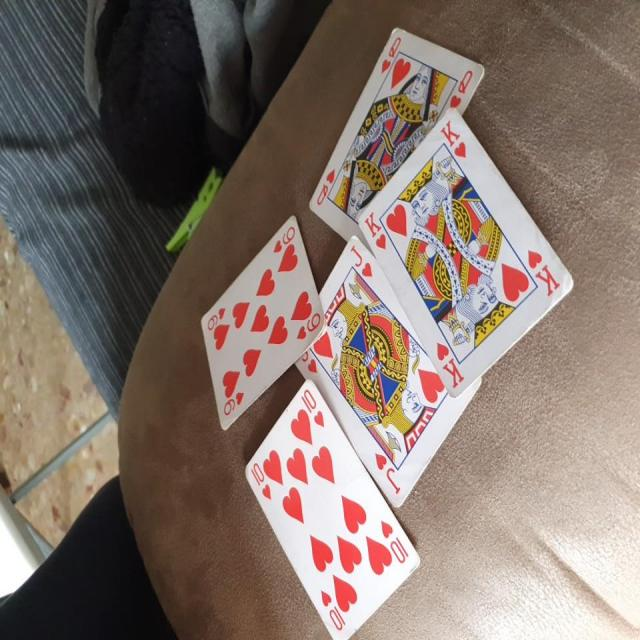10 Hearts: (236, 373, 430, 640)
9 Hearts: (192, 204, 329, 441)
J Hearts: (292, 229, 473, 506)
K Hearts: (366, 106, 575, 364)
Q Hearts: (305, 22, 486, 251)
